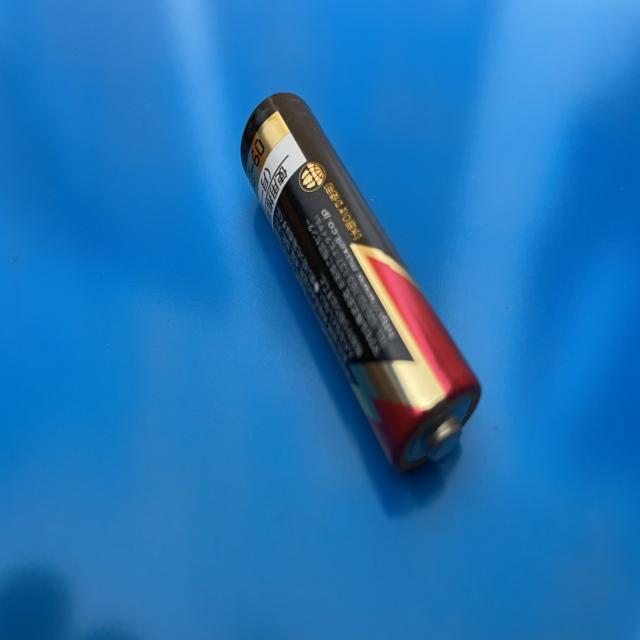hazardous waste: (240, 92, 482, 474)
